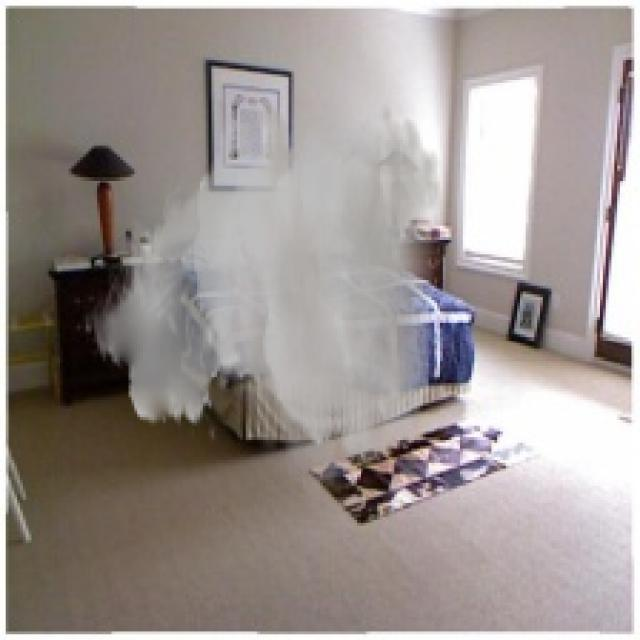Smoke: (83, 97, 443, 514)
